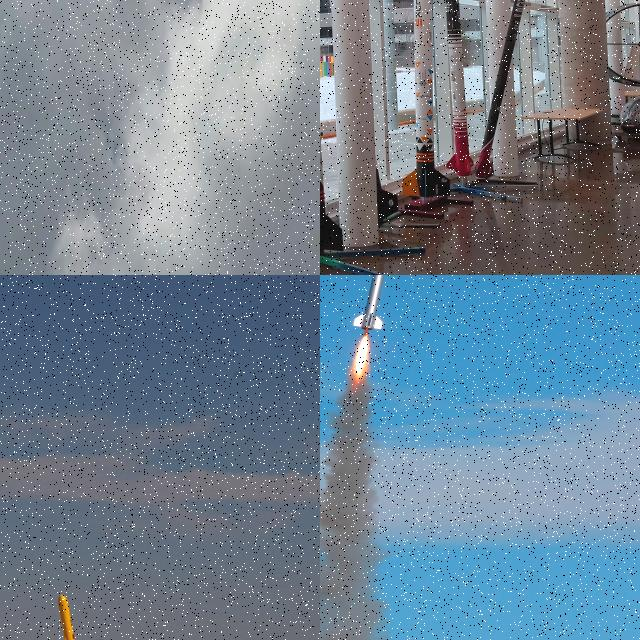Rocket: (329, 0, 398, 225), (402, 0, 450, 198), (474, 0, 525, 179), (445, 0, 474, 177), (352, 275, 392, 330), (56, 594, 94, 640)
